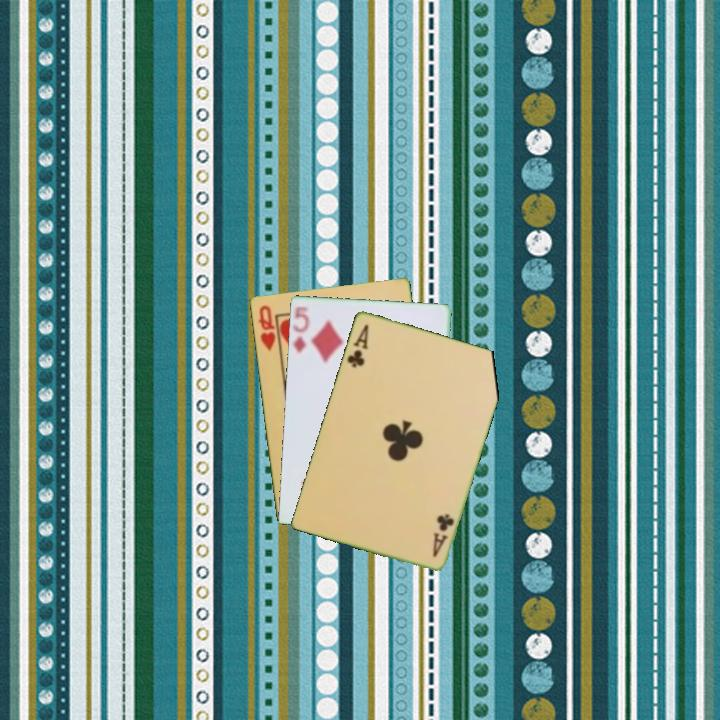5d: (289, 303, 312, 356)
Ac: (343, 320, 371, 370), (429, 510, 457, 560)
Qh: (254, 302, 278, 354)
